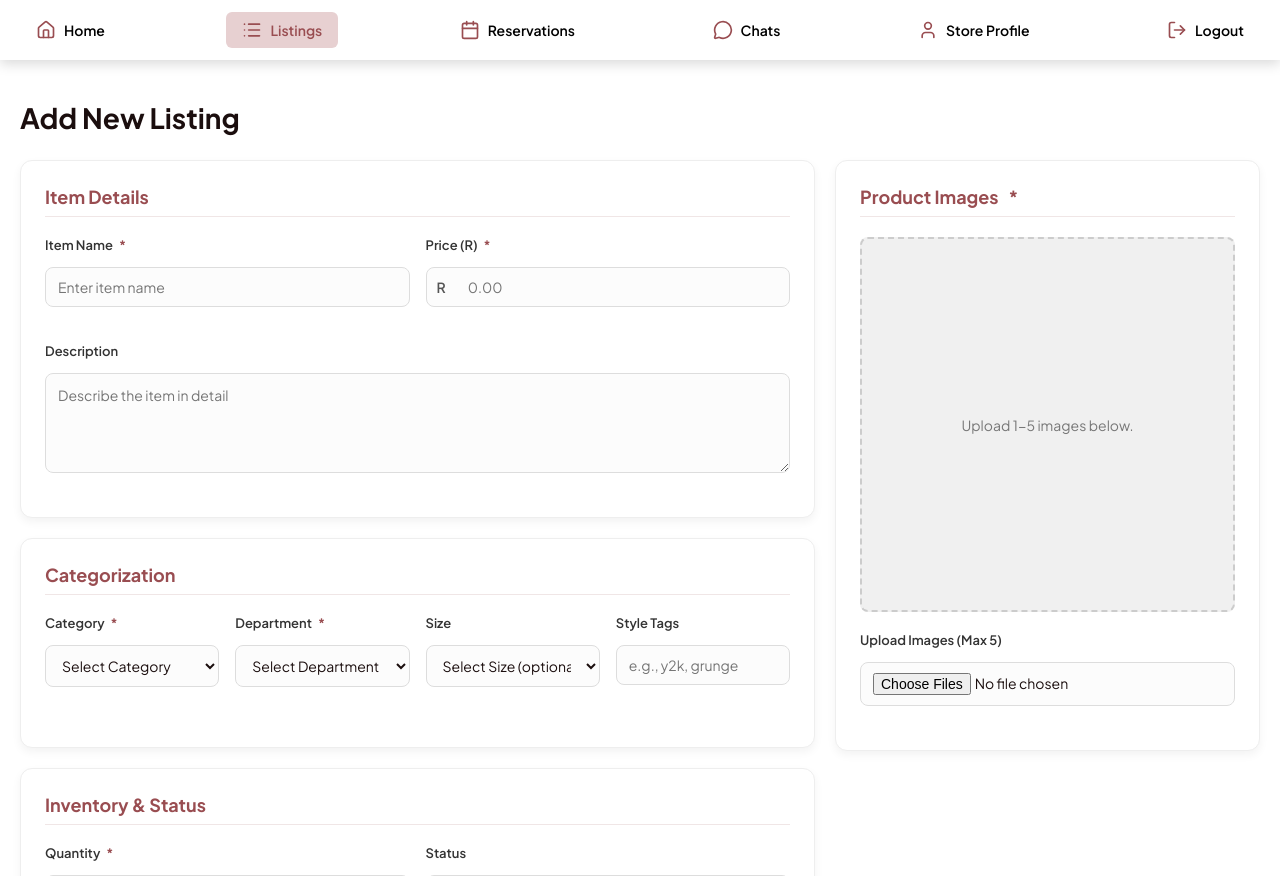
Scenario: AddListing › Authentication › shows error on logout failure
The width and height of the screenshot is (1280, 876).
Click the button "Logout".
click(1206, 30)  # box [1167,20,1244,40]
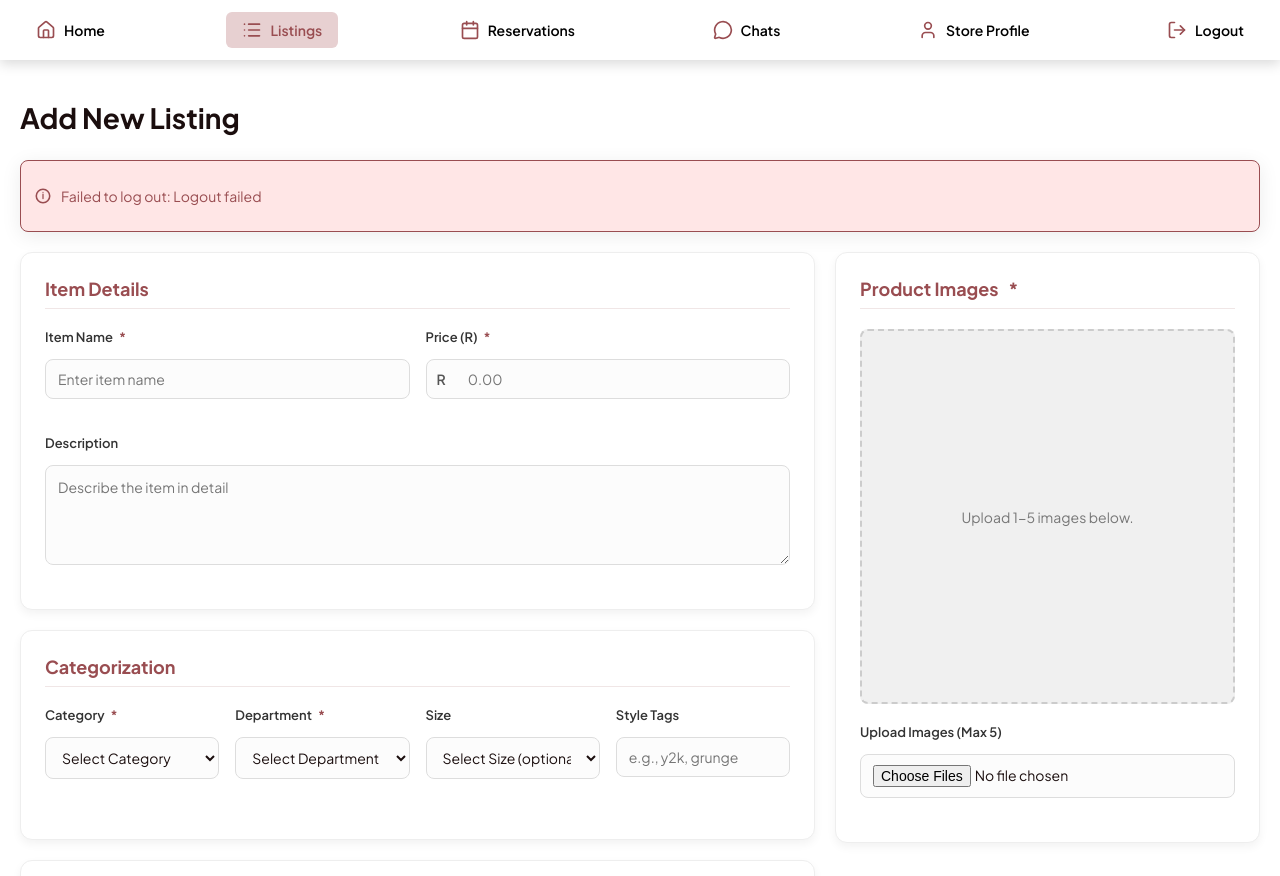
Check: the text "Failed to log out: Logout failed" is shown, box [61,187,262,205]
